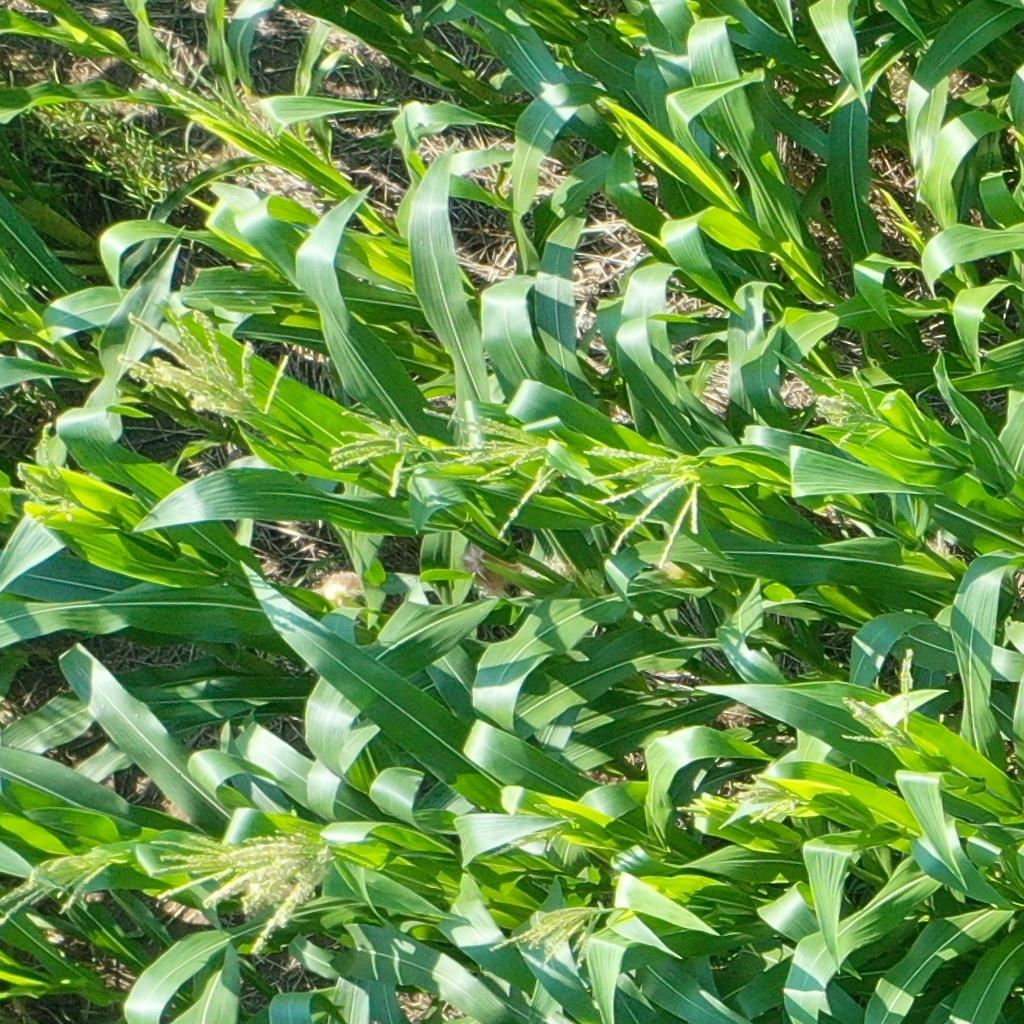Tassel: (102, 298, 293, 434), (146, 823, 331, 956), (425, 405, 567, 545), (582, 443, 713, 572), (1, 844, 125, 935), (1, 417, 82, 530), (324, 408, 427, 496), (787, 359, 893, 444), (484, 900, 614, 969), (841, 646, 922, 756), (472, 799, 583, 864), (710, 774, 815, 829)
